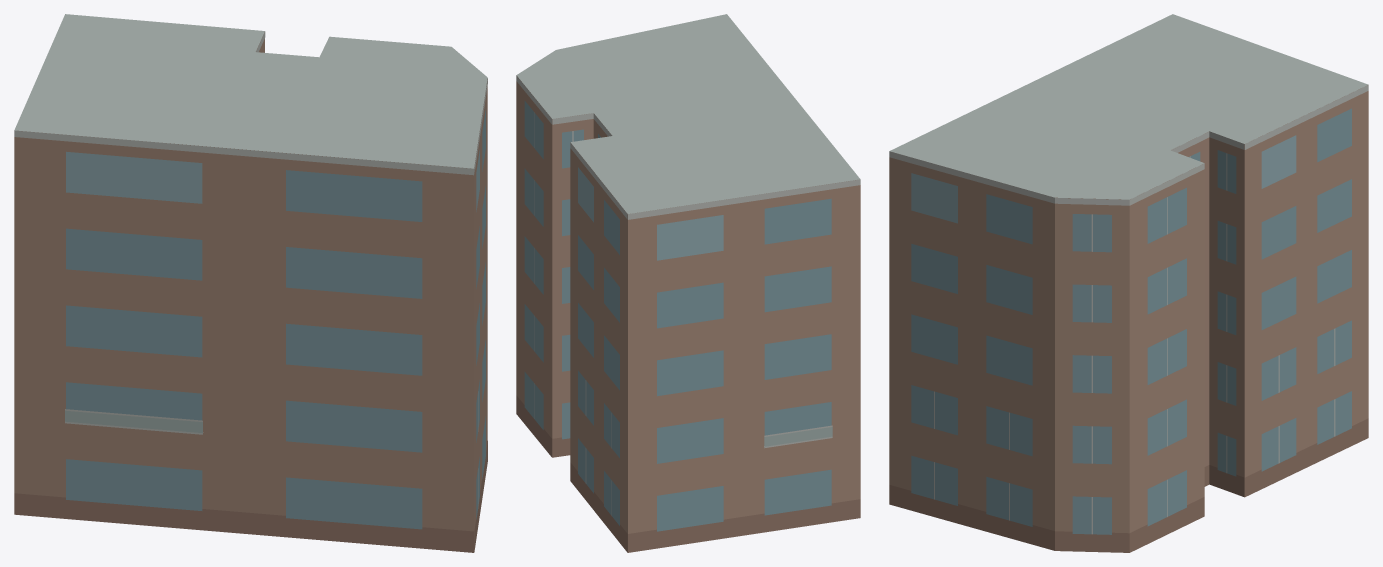
The model's file is survey-upis-32792775.glb.
3 renders of one model, left to right at view 1: azimuth 30°, elevation 25°; view 2: azimuth 150°, elevation 25°; view 3: azimuth 270°, elevation 25°, orthographic. The views are drawn at different scales.
Visible parts, largest first — view 1: survey-upis-32792775.tmp; view 2: survey-upis-32792775.tmp; view 3: survey-upis-32792775.tmp.
Boxes of the visible parts, <box> form: survey-upis-32792775.tmp: <box>14,14,487,552</box>; survey-upis-32792775.tmp: <box>516,14,860,552</box>; survey-upis-32792775.tmp: <box>889,14,1368,552</box>.
Size of the model in its own units: 16.13 by 14.3 by 17.6.
